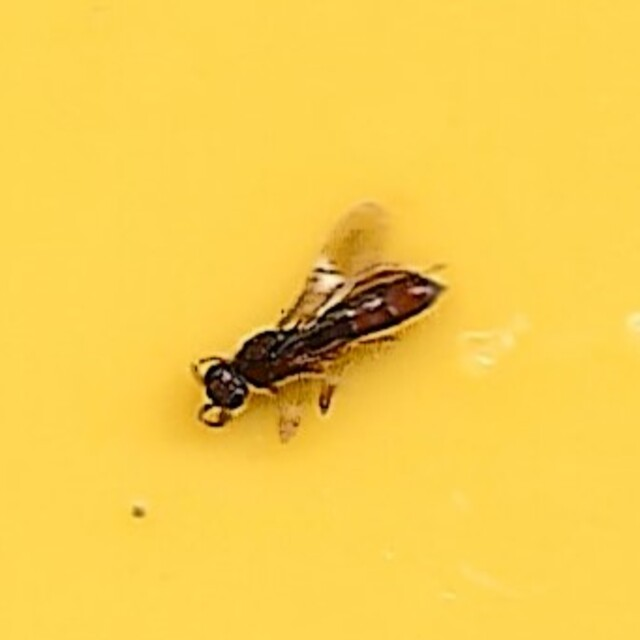Hymenoptera: (188, 203, 452, 437)
